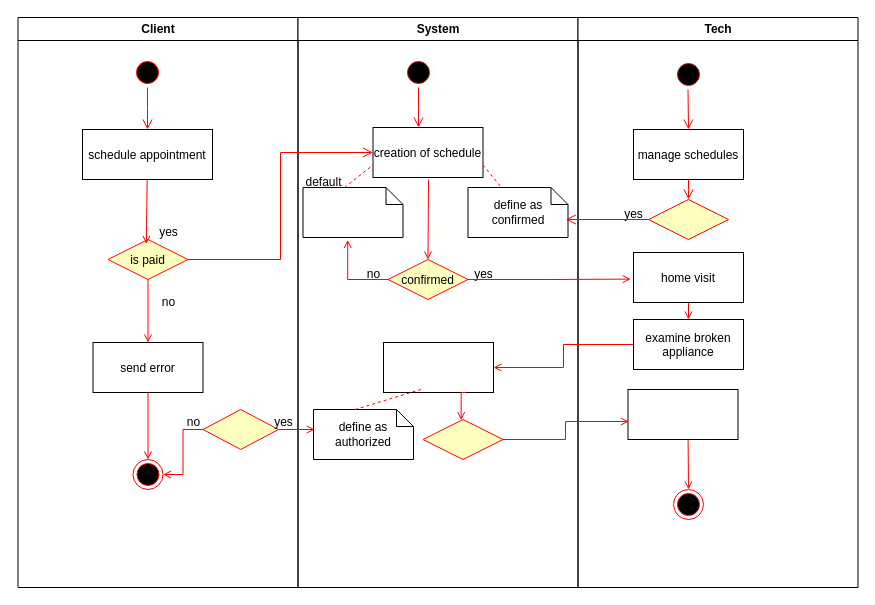
Image size: 875x605. Some labels were removed from this diagram. Here are the shapes that lost their labels. From the top down, the centre of each, then its label:
[352,212]: define as pendent
[688,219]: confirm
[438,367]: repair creation
[240,429]: authorize
[682,414]: repair
[462,439]: authorized
